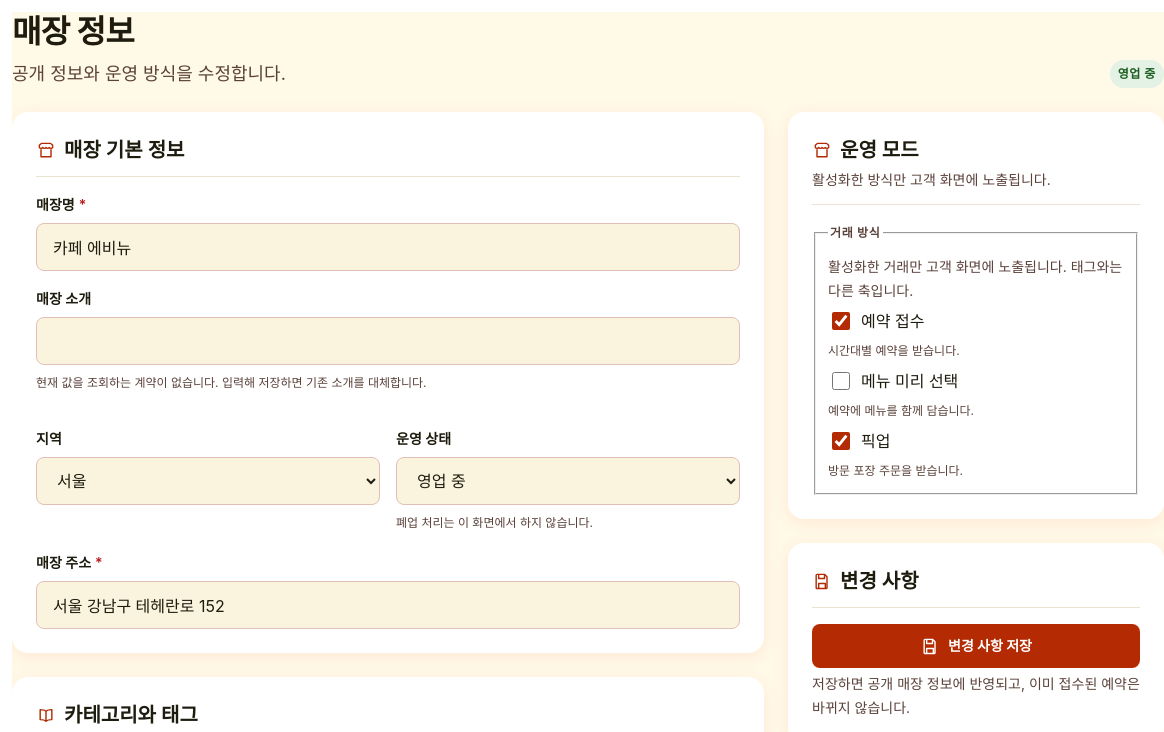
Test case: 매장 정보 화면 › 변경한 항목이 없으면 요청을 보내지 않는다
Expected: the field labelled "매장명" is shown, 36,223 -> 740,271
Click the button "변경 사항 저장" at (976, 646), box 812,624 -> 1140,668
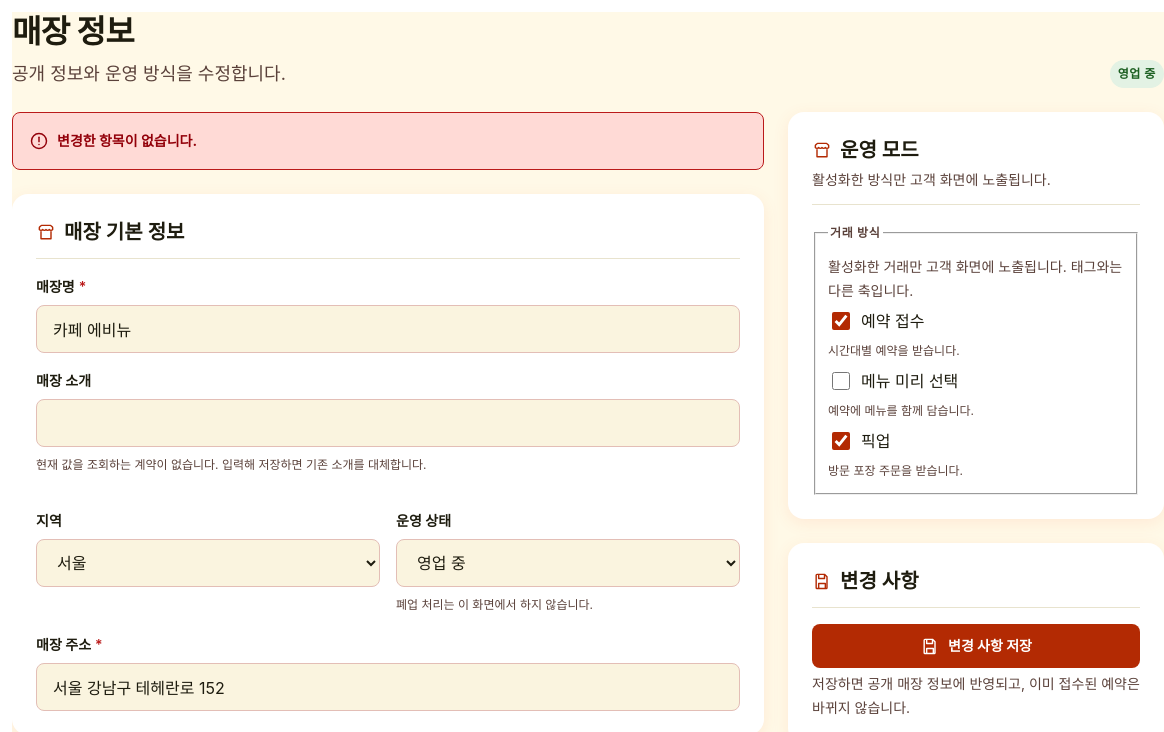
Expected: the text "변경한 항목이 없습니다." is shown, 57,132 -> 197,149
